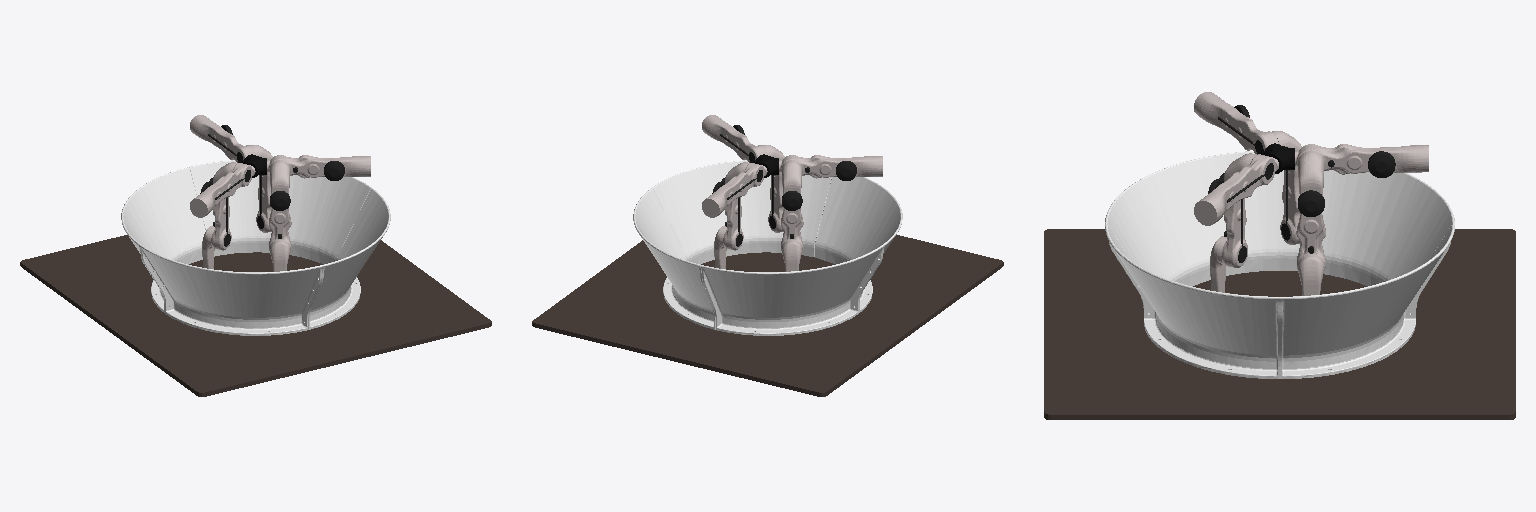
--- Render facts (derived) ---
The picture shows the robot from 3 angles, left to right: view 1: azimuth 30°, elevation 25°; view 2: azimuth 150°, elevation 25°; view 3: azimuth 270°, elevation 25°; orthographic projection.
Model trifingerpro_with_stage with 25 links and 24 joints (9 revolute, 15 fixed), rooted at base_link, posed all joints at 0.
Links seen in each view (by area): view 1: table_link, boundary_link, finger_upper_link_120, finger_upper_link_240, finger_middle_link_120, finger_upper_link_0, finger_middle_link_240, finger_middle_link_0, finger_lower_link_120; view 2: table_link, boundary_link, finger_upper_link_240, finger_upper_link_0, finger_middle_link_240, finger_upper_link_120, finger_middle_link_0, finger_middle_link_120, finger_lower_link_240; view 3: table_link, boundary_link, finger_upper_link_0, finger_upper_link_120, finger_middle_link_0, finger_upper_link_240, finger_middle_link_120, finger_middle_link_240, finger_lower_link_0, finger_lower_link_120, finger_upper_link_visuals_0, finger_middle_link_visuals_0 (+1 smaller).
Boxes of the visible links, x1,y1,x2,y2 form: table_link: [20, 235, 491, 396]; boundary_link: [121, 160, 390, 335]; finger_upper_link_120: [267, 155, 370, 178]; finger_upper_link_240: [190, 163, 255, 217]; finger_middle_link_120: [269, 160, 291, 250]; finger_upper_link_0: [190, 115, 254, 162]; finger_middle_link_240: [211, 162, 237, 250]; finger_middle_link_0: [249, 145, 272, 232]; finger_lower_link_120: [270, 240, 290, 271]; table_link: [532, 235, 1003, 396]; boundary_link: [633, 160, 902, 335]; finger_upper_link_240: [779, 155, 882, 178]; finger_upper_link_0: [702, 163, 767, 217]; finger_middle_link_240: [781, 160, 803, 250]; finger_upper_link_120: [702, 115, 766, 162]; finger_middle_link_0: [723, 162, 749, 250]; finger_middle_link_120: [761, 145, 784, 232]; finger_lower_link_240: [782, 240, 802, 271]; table_link: [1044, 229, 1515, 419]; boundary_link: [1105, 151, 1454, 378]; finger_upper_link_0: [1295, 144, 1428, 174]; finger_upper_link_120: [1194, 154, 1278, 225]; finger_middle_link_0: [1296, 151, 1325, 268]; finger_upper_link_240: [1194, 92, 1278, 154]; finger_middle_link_120: [1222, 153, 1256, 267]; finger_middle_link_240: [1272, 131, 1301, 244]; finger_lower_link_0: [1298, 254, 1324, 295]; finger_lower_link_120: [1210, 236, 1226, 292]; finger_upper_link_visuals_0: [1328, 151, 1395, 177]; finger_middle_link_visuals_0: [1298, 190, 1324, 253].
Bounding box of the posed robot: 0.71 × 0.76 × 0.3555 m (x, y, z).
Meshes: 8 distinct files referenced, 21 mesh visuals loaded (8 OBJ).

URDF robot description (trifingerpro_with_stage):
<?xml version="1.0" ?>
<!-- =================================================================================== -->
<!-- |    This document was autogenerated by xacro from robot_properties_fingers/xacro/pro/trifingerpro_with_stage.urdf.xacro | -->
<!-- |    EDITING THIS FILE BY HAND IS NOT RECOMMENDED                                 | -->
<!-- =================================================================================== -->
<robot name="trifingerpro_with_stage">
  <!--
    Frames are defined such that they all align with the base frame when all
    joints are at position zero.

    In zero-configuration the origins of all joints are in one line.

    In zero-configuration the origin of the base link is exactly above the
    finger tip which should make it easy to place the finger in the world.
    -->
  <material name="fingerpro_shell">
    <!-- colour from image -->
    <color rgba="0.804 0.764 0.761 1.0"/>
  </material>
  <material name="fingerpro_tip">
    <!-- colour from image -->
    <color rgba="0.33 0.36 0.37 1.0"/>
  </material>
  <material name="fingerpro_motor">
    <color rgba="0.17 0.17 0.17 1.0"/>
  </material>
  <material name="center_holder_material">
    <color rgba="0.1 0.1 0.1 1.0"/>
  </material>
  <!-- Define the global base_link and place all other objects relative to it. -->
  <link name="base_link">
    <!-- add inertial to suppress warning -->
    <inertial>
      <mass value="0"/>
      <inertia ixx="0.0" ixy="0.0" ixz="0.0" iyy="0.0" iyz="0.0" izz="0.0"/>
    </inertial>
  </link>
  <!-- Define the upper holder -->
  <link name="upper_holder_link">
    <visual>
      <origin rpy="0 0 0" xyz="0 0 0"/>
      <geometry>
        <mesh filename="package://robot_properties_fingers/meshes/pro/center_axis_sim.obj" scale="1.0 1.0 1.0"/>
      </geometry>
      <material name="center_holder_material"/>
    </visual>
    <!-- add inertial to suppress warning -->
    <inertial>
      <mass value="0"/>
      <inertia ixx="0.0" ixy="0.0" ixz="0.0" iyy="0.0" iyz="0.0" izz="0.0"/>
    </inertial>
  </link>
  <joint name="base_to_upper_holder_joint" type="fixed">
    <parent link="base_link"/>
    <child link="upper_holder_link"/>
    <origin xyz="0 0 0.29"/>
  </joint>
  <!--
        Fixed links for the finger base (parts where the upper link is mounted).
        Note: Link Frames already coincide with the joint location
        -->
  <link name="finger_base_link_0">
    <inertial>
      <mass value="0"/>
      <inertia ixx="0.0" ixy="0.0" ixz="0.0" iyy="0.0" iyz="0.0" izz="0.0"/>
    </inertial>
  </link>
  <link name="finger_upper_link_0">
    <visual>
      <origin rpy="0 0 0" xyz="0 0 0"/>
      <geometry>
        <mesh filename="package://robot_properties_fingers/meshes/pro/prox-sim.obj" scale="1.0 1.0 1.0"/>
      </geometry>
      <material name="fingerpro_shell"/>
    </visual>
    <collision>
      <origin rpy="0 0 0" xyz="0 0 0"/>
      <geometry>
        <mesh filename="package://robot_properties_fingers/meshes/pro/prox-sim.obj" scale="1.0 1.0 1.0"/>
      </geometry>
    </collision>
    <inertial>
      <origin rpy="0 0 0" xyz="0.006 0.122 0.000"/>
      <mass value="0.26689"/>
      <inertia ixx="0.00102362" ixy="0.00000889" ixz="-0.00000019" iyx="0.00000889" iyy="0.00006450" iyz="0.00000106" izx="-0.00000019" izy="0.00000106" izz="0.00102225"/>
    </inertial>
  </link>
  <link name="finger_upper_link_visuals_0">
    <!-- motor -->
    <visual>
      <origin xyz="0.01569 0.1643 0"/>
      <geometry>
        <mesh filename="package://robot_properties_fingers/meshes/pro/motor_sim.obj"/>
      </geometry>
      <material name="fingerpro_motor"/>
    </visual>
    <!-- end stop -->
    <visual>
      <origin rpy="0 1.5707963267948966 0" xyz="0.015 0.083 0"/>
      <geometry>
        <cylinder length="0.015" radius="0.005"/>
      </geometry>
      <material name="fingerpro_motor"/>
    </visual>
    <!-- cables -->
    <visual>
      <origin rpy="1.5707963267948966 0 0" xyz="-0.008 0.124 0"/>
      <geometry>
        <cylinder length="0.12" radius="0.002"/>
      </geometry>
      <material name="fingerpro_motor"/>
    </visual>
    <!-- opening on lower joint -->
    <visual>
      <origin rpy="0 1.5707963267948966 0" xyz="-0.0085 0.050 0"/>
      <geometry>
        <cylinder length="0.002" radius="0.014"/>
      </geometry>
      <material name="fingerpro_motor"/>
    </visual>
    <inertial>
      <mass value="0"/>
      <inertia ixx="0.0" ixy="0.0" ixz="0.0" iyy="0.0" iyz="0.0" izz="0.0"/>
    </inertial>
  </link>
  <joint name="finger_upper_visuals_joint_0" type="fixed">
    <parent link="finger_upper_link_0"/>
    <child link="finger_upper_link_visuals_0"/>
    <origin xyz="0 0 0"/>
  </joint>
  <link name="finger_middle_link_0">
    <visual>
      <origin rpy="0 0 0" xyz="0 0 0"/>
      <geometry>
        <mesh filename="package://robot_properties_fingers/meshes/pro/int_sim.obj" scale="1.0 1.0 1.0"/>
      </geometry>
      <material name="fingerpro_shell"/>
    </visual>
    <collision>
      <origin rpy="0 0 0" xyz="0 0 0"/>
      <geometry>
        <mesh filename="package://robot_properties_fingers/meshes/pro/int_sim.obj" scale="1.0 1.0 1.0"/>
      </geometry>
    </collision>
    <inertial>
      <origin rpy="0 0 0" xyz="0.03935008 -0.00012438 -0.08666705"/>
      <mass value="0.27163"/>
      <inertia ixx="0.00094060" ixy="-0.00000046" ixz="-0.00003479" iyx="-0.00000046" iyy="0.00094824" iyz="0.00000164" izx="-0.00003479" izy="0.00000164" izz="0.00007573"/>
    </inertial>
  </link>
  <link name="finger_middle_link_visuals_0">
    <!-- motor -->
    <visual>
      <origin xyz="0.0488 0 -0.0462"/>
      <geometry>
        <mesh filename="package://robot_properties_fingers/meshes/pro/motor_sim.obj"/>
      </geometry>
      <material name="fingerpro_motor"/>
    </visual>
    <!-- end stop -->
    <visual>
      <origin rpy="0 1.5707963267948966 0" xyz="0.0488 0 -0.13"/>
      <geometry>
        <cylinder length="0.015" radius="0.005"/>
      </geometry>
      <material name="fingerpro_motor"/>
    </visual>
    <!-- cables -->
    <visual>
      <origin xyz="0.025 0 -0.09"/>
      <geometry>
        <cylinder length="0.12" radius="0.002"/>
      </geometry>
      <material name="fingerpro_motor"/>
    </visual>
    <!-- opening on lower joint -->
    <visual>
      <origin rpy="0 1.5707963267948966 0" xyz="0.024 0 -0.16"/>
      <geometry>
        <cylinder length="0.002" radius="0.014"/>
      </geometry>
      <material name="fingerpro_motor"/>
    </visual>
    <inertial>
      <mass value="0"/>
      <inertia ixx="0.0" ixy="0.0" ixz="0.0" iyy="0.0" iyz="0.0" izz="0.0"/>
    </inertial>
  </link>
  <joint name="finger_middle_visuals_joint_0" type="fixed">
    <parent link="finger_middle_link_0"/>
    <child link="finger_middle_link_visuals_0"/>
  </joint>
  <link name="finger_lower_link_0">
    <visual>
      <origin rpy="0 0 0" xyz="0 0 0"/>
      <geometry>
        <mesh filename="package://robot_properties_fingers/meshes/pro/tip_link_sim.obj" scale="1.0 1.0 1.0"/>
      </geometry>
      <material name="fingerpro_shell"/>
    </visual>
    <collision>
      <origin rpy="0 0 0" xyz="0 0 0"/>
      <geometry>
        <mesh filename="package://robot_properties_fingers/meshes/pro/tip_link_sim.obj" scale="1.0 1.0 1.0"/>
      </geometry>
    </collision>
    <inertial>
      <origin rpy="0 0 0" xyz="0.01632700 -0.00001095 -0.04284052"/>
      <mass value="0.05569"/>
      <inertia ixx="0.00013626" ixy="0.00000000" ixz="-0.00000662" iyx="0.00000000" iyy="0.00013372" iyz="0.00000004" izx="-0.00000662" izy="0.00000004" izz="0.00000667"/>
    </inertial>
  </link>
  <!-- fixed link for finger tip -->
  <link name="finger_tip_link_0">
    <visual>
      <origin rpy="0 0 0" xyz="0 0 0"/>
      <geometry>
        <mesh filename="package://robot_properties_fingers/meshes/pro/tip_sim.obj" scale="1.0 1.0 1.0"/>
      </geometry>
      <material name="fingerpro_tip"/>
    </visual>
    <collision>
      <origin rpy="0 0 0" xyz="0 0 0"/>
      <geometry>
        <mesh filename="package://robot_properties_fingers/meshes/pro/tip_sim.obj" scale="1.0 1.0 1.0"/>
      </geometry>
    </collision>
    <inertial>
      <origin rpy="0 0 0" xyz="0 0 0"/>
      <mass value="0.031"/>
      <inertia ixx="5.166666666666667e-07" ixy="0" ixz="0" iyy="5.166666666666667e-07" iyz="0" izz="5.166666666666667e-07"/>
    </inertial>
    <inertial>
      <origin rpy="0 0 0" xyz="-0.00001194 0.00000000 0.01560060"/>
      <mass value="0.0092"/>
      <inertia ixx="0.00000155" ixy="0.00000000" ixz="0.00000000" iyx="0.00000000" iyy="0.00000155" iyz="0.00000000" izx="0.00000000" izy="0.00000000" izz="0.00000032"/>
    </inertial>
  </link>
  <joint name="finger_lower_to_tip_joint_0" type="fixed">
    <parent link="finger_lower_link_0"/>
    <child link="finger_tip_link_0"/>
    <origin xyz="0.019 0 -0.16"/>
  </joint>
  <!-- kinematics -->
  <!-- NOTE: Joint limits are set according to soft limits in the
             configuration of the real robot (i.e. not according to physical
             limits). -->
  <joint name="finger_base_to_upper_joint_0" type="revolute">
    <parent link="finger_base_link_0"/>
    <child link="finger_upper_link_0"/>
    <limit effort="1000" lower="-0.33" upper="1.0" velocity="1000"/>
    <axis xyz="0 1 0"/>
    <origin rpy="0 0 0" xyz="0 0 0"/>
  </joint>
  <joint name="finger_upper_to_middle_joint_0" type="revolute">
    <parent link="finger_upper_link_0"/>
    <child link="finger_middle_link_0"/>
    <limit effort="1000" lower="0.0" upper="1.57" velocity="1000"/>
    <axis xyz="1 0 0"/>
    <origin rpy="0 0 0" xyz="0.01685 0.0505 0"/>
  </joint>
  <joint name="finger_middle_to_lower_joint_0" type="revolute">
    <parent link="finger_middle_link_0"/>
    <child link="finger_lower_link_0"/>
    <limit effort="1000" lower="-2.7" upper="0.0" velocity="1000"/>
    <axis xyz="1 0 0"/>
    <origin rpy="0 0 0" xyz="0.05015 0 -0.16"/>
  </joint>
  <!--
        Fixed links for the finger base (parts where the upper link is mounted).
        Note: Link Frames already coincide with the joint location
        -->
  <link name="finger_base_link_120">
    <inertial>
      <mass value="0"/>
      <inertia ixx="0.0" ixy="0.0" ixz="0.0" iyy="0.0" iyz="0.0" izz="0.0"/>
    </inertial>
  </link>
  <link name="finger_upper_link_120">
    <visual>
      <origin rpy="0 0 0" xyz="0 0 0"/>
      <geometry>
        <mesh filename="package://robot_properties_fingers/meshes/pro/prox-sim.obj" scale="1.0 1.0 1.0"/>
      </geometry>
      <material name="fingerpro_shell"/>
    </visual>
    <collision>
      <origin rpy="0 0 0" xyz="0 0 0"/>
      <geometry>
        <mesh filename="package://robot_properties_fingers/meshes/pro/prox-sim.obj" scale="1.0 1.0 1.0"/>
      </geometry>
    </collision>
    <inertial>
      <origin rpy="0 0 0" xyz="0.006 0.122 0.000"/>
      <mass value="0.26689"/>
      <inertia ixx="0.00102362" ixy="0.00000889" ixz="-0.00000019" iyx="0.00000889" iyy="0.00006450" iyz="0.00000106" izx="-0.00000019" izy="0.00000106" izz="0.00102225"/>
    </inertial>
  </link>
  <link name="finger_upper_link_visuals_120">
    <!-- motor -->
    <visual>
      <origin xyz="0.01569 0.1643 0"/>
      <geometry>
        <mesh filename="package://robot_properties_fingers/meshes/pro/motor_sim.obj"/>
      </geometry>
      <material name="fingerpro_motor"/>
    </visual>
    <!-- end stop -->
    <visual>
      <origin rpy="0 1.5707963267948966 0" xyz="0.015 0.083 0"/>
      <geometry>
        <cylinder length="0.015" radius="0.005"/>
      </geometry>
      <material name="fingerpro_motor"/>
    </visual>
    <!-- cables -->
    <visual>
      <origin rpy="1.5707963267948966 0 0" xyz="-0.008 0.124 0"/>
      <geometry>
        <cylinder length="0.12" radius="0.002"/>
      </geometry>
      <material name="fingerpro_motor"/>
    </visual>
    <!-- opening on lower joint -->
    <visual>
      <origin rpy="0 1.5707963267948966 0" xyz="-0.0085 0.050 0"/>
      <geometry>
        <cylinder length="0.002" radius="0.014"/>
      </geometry>
      <material name="fingerpro_motor"/>
    </visual>
    <inertial>
      <mass value="0"/>
      <inertia ixx="0.0" ixy="0.0" ixz="0.0" iyy="0.0" iyz="0.0" izz="0.0"/>
    </inertial>
  </link>
  <joint name="finger_upper_visuals_joint_120" type="fixed">
    <parent link="finger_upper_link_120"/>
    <child link="finger_upper_link_visuals_120"/>
    <origin xyz="0 0 0"/>
  </joint>
  <link name="finger_middle_link_120">
    <visual>
      <origin rpy="0 0 0" xyz="0 0 0"/>
      <geometry>
        <mesh filename="package://robot_properties_fingers/meshes/pro/int_sim.obj" scale="1.0 1.0 1.0"/>
      </geometry>
      <material name="fingerpro_shell"/>
    </visual>
    <collision>
      <origin rpy="0 0 0" xyz="0 0 0"/>
      <geometry>
        <mesh filename="package://robot_properties_fingers/meshes/pro/int_sim.obj" scale="1.0 1.0 1.0"/>
      </geometry>
    </collision>
    <inertial>
      <origin rpy="0 0 0" xyz="0.03935008 -0.00012438 -0.08666705"/>
      <mass value="0.27163"/>
      <inertia ixx="0.00094060" ixy="-0.00000046" ixz="-0.00003479" iyx="-0.00000046" iyy="0.00094824" iyz="0.00000164" izx="-0.00003479" izy="0.00000164" izz="0.00007573"/>
    </inertial>
  </link>
  <link name="finger_middle_link_visuals_120">
    <!-- motor -->
    <visual>
      <origin xyz="0.0488 0 -0.0462"/>
      <geometry>
        <mesh filename="package://robot_properties_fingers/meshes/pro/motor_sim.obj"/>
      </geometry>
      <material name="fingerpro_motor"/>
    </visual>
    <!-- end stop -->
    <visual>
      <origin rpy="0 1.5707963267948966 0" xyz="0.0488 0 -0.13"/>
      <geometry>
        <cylinder length="0.015" radius="0.005"/>
      </geometry>
      <material name="fingerpro_motor"/>
    </visual>
    <!-- cables -->
    <visual>
      <origin xyz="0.025 0 -0.09"/>
      <geometry>
        <cylinder length="0.12" radius="0.002"/>
      </geometry>
      <material name="fingerpro_motor"/>
    </visual>
    <!-- opening on lower joint -->
    <visual>
      <origin rpy="0 1.5707963267948966 0" xyz="0.024 0 -0.16"/>
      <geometry>
        <cylinder length="0.002" radius="0.014"/>
      </geometry>
      <material name="fingerpro_motor"/>
    </visual>
    <inertial>
      <mass value="0"/>
      <inertia ixx="0.0" ixy="0.0" ixz="0.0" iyy="0.0" iyz="0.0" izz="0.0"/>
    </inertial>
  </link>
  <joint name="finger_middle_visuals_joint_120" type="fixed">
    <parent link="finger_middle_link_120"/>
    <child link="finger_middle_link_visuals_120"/>
  </joint>
  <link name="finger_lower_link_120">
    <visual>
      <origin rpy="0 0 0" xyz="0 0 0"/>
      <geometry>
        <mesh filename="package://robot_properties_fingers/meshes/pro/tip_link_sim.obj" scale="1.0 1.0 1.0"/>
      </geometry>
      <material name="fingerpro_shell"/>
    </visual>
    <collision>
      <origin rpy="0 0 0" xyz="0 0 0"/>
      <geometry>
        <mesh filename="package://robot_properties_fingers/meshes/pro/tip_link_sim.obj" scale="1.0 1.0 1.0"/>
      </geometry>
    </collision>
    <inertial>
      <origin rpy="0 0 0" xyz="0.01632700 -0.00001095 -0.04284052"/>
      <mass value="0.05569"/>
      <inertia ixx="0.00013626" ixy="0.00000000" ixz="-0.00000662" iyx="0.00000000" iyy="0.00013372" iyz="0.00000004" izx="-0.00000662" izy="0.00000004" izz="0.00000667"/>
    </inertial>
  </link>
  <!-- fixed link for finger tip -->
  <link name="finger_tip_link_120">
    <visual>
      <origin rpy="0 0 0" xyz="0 0 0"/>
      <geometry>
        <mesh filename="package://robot_properties_fingers/meshes/pro/tip_sim.obj" scale="1.0 1.0 1.0"/>
      </geometry>
      <material name="fingerpro_tip"/>
    </visual>
    <collision>
      <origin rpy="0 0 0" xyz="0 0 0"/>
      <geometry>
        <mesh filename="package://robot_properties_fingers/meshes/pro/tip_sim.obj" scale="1.0 1.0 1.0"/>
      </geometry>
    </collision>
    <inertial>
      <origin rpy="0 0 0" xyz="0 0 0"/>
      <mass value="0.031"/>
      <inertia ixx="5.166666666666667e-07" ixy="0" ixz="0" iyy="5.166666666666667e-07" iyz="0" izz="5.166666666666667e-07"/>
    </inertial>
    <inertial>
      <origin rpy="0 0 0" xyz="-0.00001194 0.00000000 0.01560060"/>
      <mass value="0.0092"/>
      <inertia ixx="0.00000155" ixy="0.00000000" ixz="0.00000000" iyx="0.00000000" iyy="0.00000155" iyz="0.00000000" izx="0.00000000" izy="0.00000000" izz="0.00000032"/>
    </inertial>
  </link>
  <joint name="finger_lower_to_tip_joint_120" type="fixed">
    <parent link="finger_lower_link_120"/>
    <child link="finger_tip_link_120"/>
    <origin xyz="0.019 0 -0.16"/>
  </joint>
  <!-- kinematics -->
  <!-- NOTE: Joint limits are set according to soft limits in the
             configuration of the real robot (i.e. not according to physical
             limits). -->
  <joint name="finger_base_to_upper_joint_120" type="revolute">
    <parent link="finger_base_link_120"/>
    <child link="finger_upper_link_120"/>
    <limit effort="1000" lower="-0.33" upper="1.0" velocity="1000"/>
    <axis xyz="0 1 0"/>
    <origin rpy="0 0 0" xyz="0 0 0"/>
  </joint>
  <joint name="finger_upper_to_middle_joint_120" type="revolute">
    <parent link="finger_upper_link_120"/>
    <child link="finger_middle_link_120"/>
    <limit effort="1000" lower="0.0" upper="1.57" velocity="1000"/>
    <axis xyz="1 0 0"/>
    <origin rpy="0 0 0" xyz="0.01685 0.0505 0"/>
  </joint>
  <joint name="finger_middle_to_lower_joint_120" type="revolute">
    <parent link="finger_middle_link_120"/>
    <child link="finger_lower_link_120"/>
    <limit effort="1000" lower="-2.7" upper="0.0" velocity="1000"/>
    <axis xyz="1 0 0"/>
    <origin rpy="0 0 0" xyz="0.05015 0 -0.16"/>
  </joint>
  <!--
        Fixed links for the finger base (parts where the upper link is mounted).
        Note: Link Frames already coincide with the joint location
        -->
  <link name="finger_base_link_240">
    <inertial>
      <mass value="0"/>
      <inertia ixx="0.0" ixy="0.0" ixz="0.0" iyy="0.0" iyz="0.0" izz="0.0"/>
    </inertial>
  </link>
  <link name="finger_upper_link_240">
    <visual>
      <origin rpy="0 0 0" xyz="0 0 0"/>
      <geometry>
        <mesh filename="package://robot_properties_fingers/meshes/pro/prox-sim.obj" scale="1.0 1.0 1.0"/>
      </geometry>
      <material name="fingerpro_shell"/>
    </visual>
    <collision>
      <origin rpy="0 0 0" xyz="0 0 0"/>
      <geometry>
        <mesh filename="package://robot_properties_fingers/meshes/pro/prox-sim.obj" scale="1.0 1.0 1.0"/>
      </geometry>
    </collision>
    <inertial>
      <origin rpy="0 0 0" xyz="0.006 0.122 0.000"/>
      <mass value="0.26689"/>
      <inertia ixx="0.00102362" ixy="0.00000889" ixz="-0.00000019" iyx="0.00000889" iyy="0.00006450" iyz="0.00000106" izx="-0.00000019" izy="0.00000106" izz="0.00102225"/>
    </inertial>
  </link>
  <link name="finger_upper_link_visuals_240">
    <!-- motor -->
    <visual>
      <origin xyz="0.01569 0.1643 0"/>
      <geometry>
        <mesh filename="package://robot_properties_fingers/meshes/pro/motor_sim.obj"/>
      </geometry>
      <material name="fingerpro_motor"/>
    </visual>
    <!-- end stop -->
    <visual>
      <origin rpy="0 1.5707963267948966 0" xyz="0.015 0.083 0"/>
      <geometry>
        <cylinder length="0.015" radius="0.005"/>
      </geometry>
      <material name="fingerpro_motor"/>
    </visual>
    <!-- cables -->
    <visual>
      <origin rpy="1.5707963267948966 0 0" xyz="-0.008 0.124 0"/>
      <geometry>
        <cylinder length="0.12" radius="0.002"/>
      </geometry>
      <material name="fingerpro_motor"/>
    </visual>
    <!-- opening on lower joint -->
    <visual>
      <origin rpy="0 1.5707963267948966 0" xyz="-0.0085 0.050 0"/>
      <geometry>
        <cylinder length="0.002" radius="0.014"/>
      </geometry>
      <material name="fingerpro_motor"/>
    </visual>
    <inertial>
      <mass value="0"/>
      <inertia ixx="0.0" ixy="0.0" ixz="0.0" iyy="0.0" iyz="0.0" izz="0.0"/>
    </inertial>
  </link>
  <joint name="finger_upper_visuals_joint_240" type="fixed">
    <parent link="finger_upper_link_240"/>
    <child link="finger_upper_link_visuals_240"/>
    <origin xyz="0 0 0"/>
  </joint>
  <link name="finger_middle_link_240">
    <visual>
      <origin rpy="0 0 0" xyz="0 0 0"/>
      <geometry>
        <mesh filename="package://robot_properties_fingers/meshes/pro/int_sim.obj" scale="1.0 1.0 1.0"/>
      </geometry>
      <material name="fingerpro_shell"/>
    </visual>
    <collision>
      <origin rpy="0 0 0" xyz="0 0 0"/>
      <geometry>
        <mesh filename="package://robot_properties_fingers/meshes/pro/int_sim.obj" scale="1.0 1.0 1.0"/>
      </geometry>
    </collision>
    <inertial>
      <origin rpy="0 0 0" xyz="0.03935008 -0.00012438 -0.08666705"/>
      <mass value="0.27163"/>
      <inertia ixx="0.00094060" ixy="-0.00000046" ixz="-0.00003479" iyx="-0.00000046" iyy="0.00094824" iyz="0.00000164" izx="-0.00003479" izy="0.00000164" izz="0.00007573"/>
    </inertial>
  </link>
  <link name="finger_middle_link_visuals_240">
    <!-- motor -->
    <visual>
      <origin xyz="0.0488 0 -0.0462"/>
      <geometry>
        <mesh filename="package://robot_properties_fingers/meshes/pro/motor_sim.obj"/>
      </geometry>
      <material name="fingerpro_motor"/>
    </visual>
    <!-- end stop -->
    <visual>
      <origin rpy="0 1.5707963267948966 0" xyz="0.0488 0 -0.13"/>
      <geometry>
        <cylinder length="0.015" radius="0.005"/>
      </geometry>
      <material name="fingerpro_motor"/>
    </visual>
    <!-- cables -->
    <visual>
      <origin xyz="0.025 0 -0.09"/>
      <geometry>
        <cylinder length="0.12" radius="0.002"/>
      </geometry>
      <material name="fingerpro_motor"/>
    </visual>
    <!-- opening on lower joint -->
    <visual>
      <origin rpy="0 1.5707963267948966 0" xyz="0.024 0 -0.16"/>
      <geometry>
        <cylinder length="0.002" radius="0.014"/>
      </geometry>
      <material name="fingerpro_motor"/>
    </visual>
    <inertial>
      <mass value="0"/>
      <inertia ixx="0.0" ixy="0.0" ixz="0.0" iyy="0.0" iyz="0.0" izz="0.0"/>
    </inertial>
  </link>
  <joint name="finger_middle_visuals_joint_240" type="fixed">
    <parent link="finger_middle_link_240"/>
    <child link="finger_middle_link_visuals_240"/>
  </joint>
  <link name="finger_lower_link_240">
    <visual>
      <origin rpy="0 0 0" xyz="0 0 0"/>
      <geometry>
        <mesh filename="package://robot_properties_fingers/meshes/pro/tip_link_sim.obj" scale="1.0 1.0 1.0"/>
      </geometry>
      <material name="fingerpro_shell"/>
    </visual>
    <collision>
      <origin rpy="0 0 0" xyz="0 0 0"/>
      <geometry>
        <mesh filename="package://robot_properties_fingers/meshes/pro/tip_link_sim.obj" scale="1.0 1.0 1.0"/>
      </geometry>
    </collision>
    <inertial>
      <origin rpy="0 0 0" xyz="0.01632700 -0.00001095 -0.04284052"/>
      <mass value="0.05569"/>
      <inertia ixx="0.00013626" ixy="0.00000000" ixz="-0.00000662" iyx="0.00000000" iyy="0.00013372" iyz="0.00000004" izx="-0.00000662" izy="0.00000004" izz="0.00000667"/>
    </inertial>
  </link>
  <!-- fixed link for finger tip -->
  <link name="finger_tip_link_240">
    <visual>
      <origin rpy="0 0 0" xyz="0 0 0"/>
      <geometry>
        <mesh filename="package://robot_properties_fingers/meshes/pro/tip_sim.obj" scale="1.0 1.0 1.0"/>
      </geometry>
      <material name="fingerpro_tip"/>
    </visual>
    <collision>
      <origin rpy="0 0 0" xyz="0 0 0"/>
      <geometry>
        <mesh filename="package://robot_properties_fingers/meshes/pro/tip_sim.obj" scale="1.0 1.0 1.0"/>
      </geometry>
    </collision>
    <inertial>
      <origin rpy="0 0 0" xyz="0 0 0"/>
      <mass value="0.031"/>
      <inertia ixx="5.166666666666667e-07" ixy="0" ixz="0" iyy="5.166666666666667e-07" iyz="0" izz="5.166666666666667e-07"/>
    </inertial>
    <inertial>
      <origin rpy="0 0 0" xyz="-0.00001194 0.00000000 0.01560060"/>
      <mass value="0.0092"/>
      <inertia ixx="0.00000155" ixy="0.00000000" ixz="0.00000000" iyx="0.00000000" iyy="0.00000155" iyz="0.00000000" izx="0.00000000" izy="0.00000000" izz="0.00000032"/>
    </inertial>
  </link>
  <joint name="finger_lower_to_tip_joint_240" type="fixed">
    <parent link="finger_lower_link_240"/>
    <child link="finger_tip_link_240"/>
    <origin xyz="0.019 0 -0.16"/>
  </joint>
  <!-- kinematics -->
  <!-- NOTE: Joint limits are set according to soft limits in the
             configuration of the real robot (i.e. not according to physical
             limits). -->
  <joint name="finger_base_to_upper_joint_240" type="revolute">
    <parent link="finger_base_link_240"/>
    <child link="finger_upper_link_240"/>
    <limit effort="1000" lower="-0.33" upper="1.0" velocity="1000"/>
    <axis xyz="0 1 0"/>
    <origin rpy="0 0 0" xyz="0 0 0"/>
  </joint>
  <joint name="finger_upper_to_middle_joint_240" type="revolute">
    <parent link="finger_upper_link_240"/>
    <child link="finger_middle_link_240"/>
    <limit effort="1000" lower="0.0" upper="1.57" velocity="1000"/>
    <axis xyz="1 0 0"/>
    <origin rpy="0 0 0" xyz="0.01685 0.0505 0"/>
  </joint>
  <joint name="finger_middle_to_lower_joint_240" type="revolute">
    <parent link="finger_middle_link_240"/>
    <child link="finger_lower_link_240"/>
    <limit effort="1000" lower="-2.7" upper="0.0" velocity="1000"/>
    <axis xyz="1 0 0"/>
    <origin rpy="0 0 0" xyz="0.05015 0 -0.16"/>
  </joint>
  <joint name="holder_to_finger_0" type="fixed">
    <parent link="upper_holder_link"/>
    <child link="finger_base_link_0"/>
    <origin rpy="0 0 0.0" xyz="0 0 0"/>
  </joint>
  <joint name="holder_to_finger_120" type="fixed">
    <parent link="upper_holder_link"/>
    <child link="finger_base_link_120"/>
    <origin rpy="0 0 -2.0943951023931953" xyz="0 0 0"/>
  </joint>
  <joint name="holder_to_finger_240" type="fixed">
    <parent link="upper_holder_link"/>
    <child link="finger_base_link_240"/>
    <origin rpy="0 0 -4.1887902047863905" xyz="0 0 0"/>
  </joint>
  <material name="table_material">
    <color rgba="0.31 0.27 0.25 1.0"/>
  </material>
  <material name="boundary_material">
    <color rgba="0.95 0.95 0.95 1.0"/>
  </material>
  <link name="table_link">
    <visual>
      <origin rpy="0 0 0" xyz="0 0 0"/>
      <geometry>
        <mesh filename="package://robot_properties_fingers/meshes/stl/trifinger_table_without_border.obj" scale="1 1 1"/>
      </geometry>
      <material name="table_material"/>
    </visual>
    <collision>
      <origin rpy="0 0 0" xyz="0 0 0"/>
      <geometry>
        <mesh filename="package://robot_properties_fingers/meshes/stl/trifinger_table_without_border.obj" scale="1 1 1"/>
      </geometry>
    </collision>
    <inertial>
      <origin rpy="0 0 0" xyz="0 0 0"/>
      <mass value="2"/>
      <inertia ixx="0.09628333333333333" ixy="0" ixz="0" iyy="0.08403333333333332" iyz="0" izz="0.18028333333333335"/>
    </inertial>
  </link>
  <link name="boundary_link">
    <visual>
      <origin rpy="0 0 0" xyz="0 0 0"/>
      <geometry>
        <mesh filename="package://robot_properties_fingers/meshes/stl/high_table_boundary.obj" scale="1 1 1"/>
      </geometry>
      <material name="boundary_material"/>
    </visual>
    <collision>
      <origin rpy="0 0 0" xyz="0 0 0"/>
      <geometry>
        <mesh filename="package://robot_properties_fingers/meshes/stl/high_table_boundary.obj" scale="1 1 1"/>
      </geometry>
    </collision>
    <inertial>
      <origin rpy="0 0 0" xyz="0 0 0"/>
      <mass value="2"/>
      <inertia ixx="0.05708333333333333" ixy="0" ixz="0" iyy="0.05708333333333333" iyz="0" izz="0.10453333333333334"/>
    </inertial>
  </link>
  <joint name="base_to_table" type="fixed">
    <parent link="base_link"/>
    <child link="table_link"/>
    <origin xyz="0 0 0"/>
  </joint>
  <joint name="table_to_boundary" type="fixed">
    <parent link="table_link"/>
    <child link="boundary_link"/>
    <origin xyz="0 0 0"/>
  </joint>
</robot>
